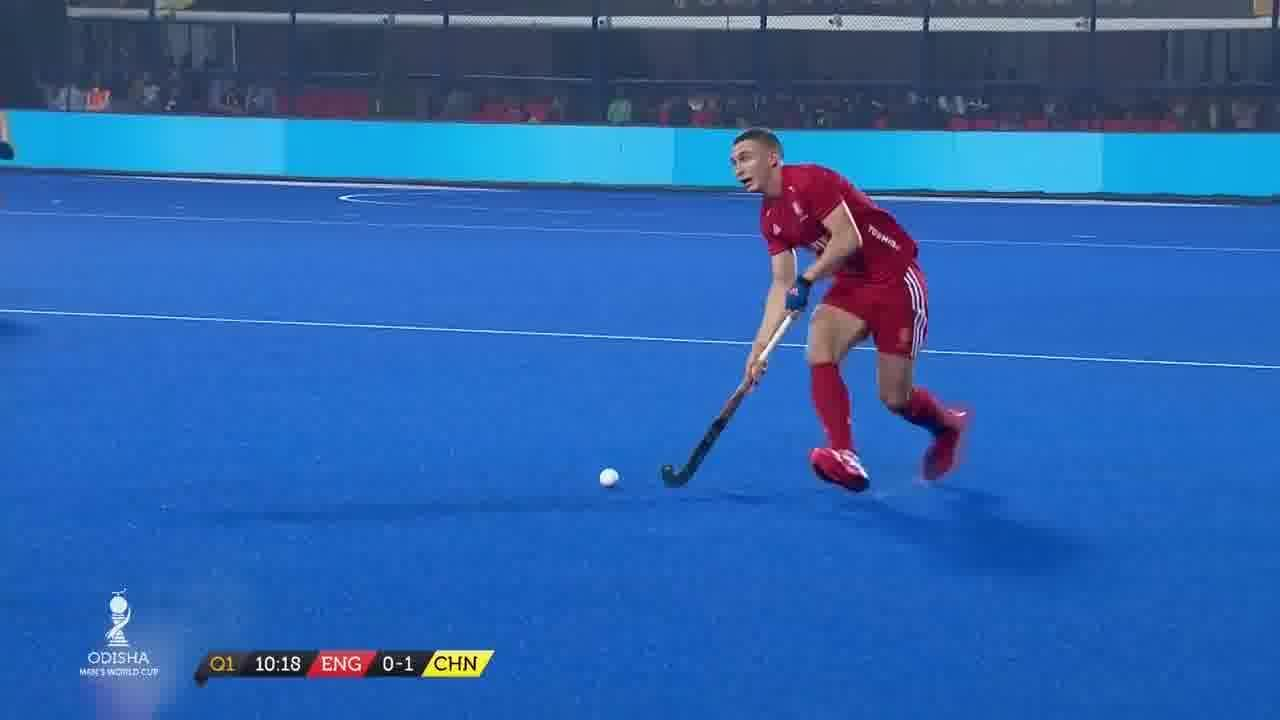ball: (596, 459, 629, 499)
